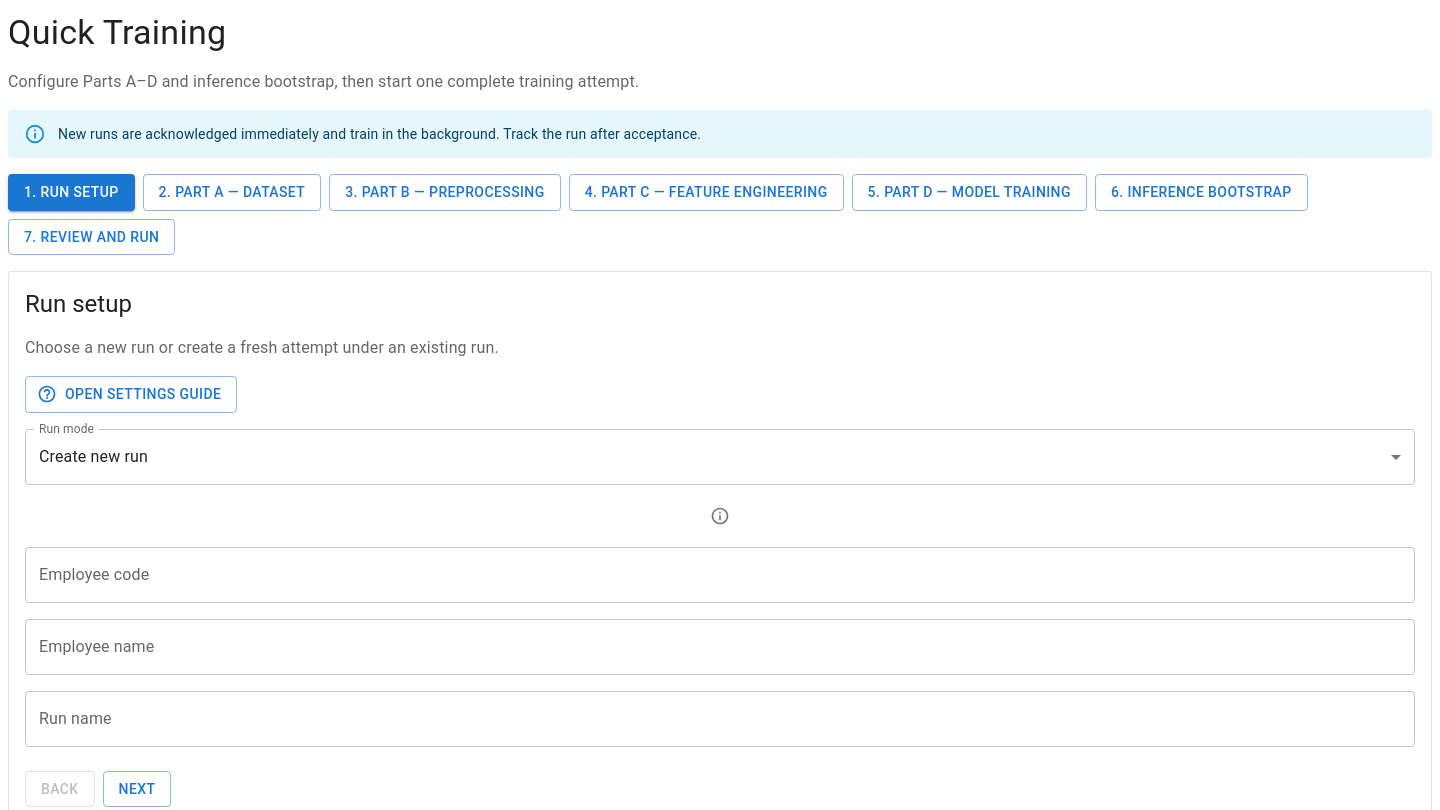
Quick Training workspace › preserves edits across steps and shows a readable review
The image size is (1440, 810).
Click the button "2. Part A — Dataset" at (232,192), box [143,174,321,210]
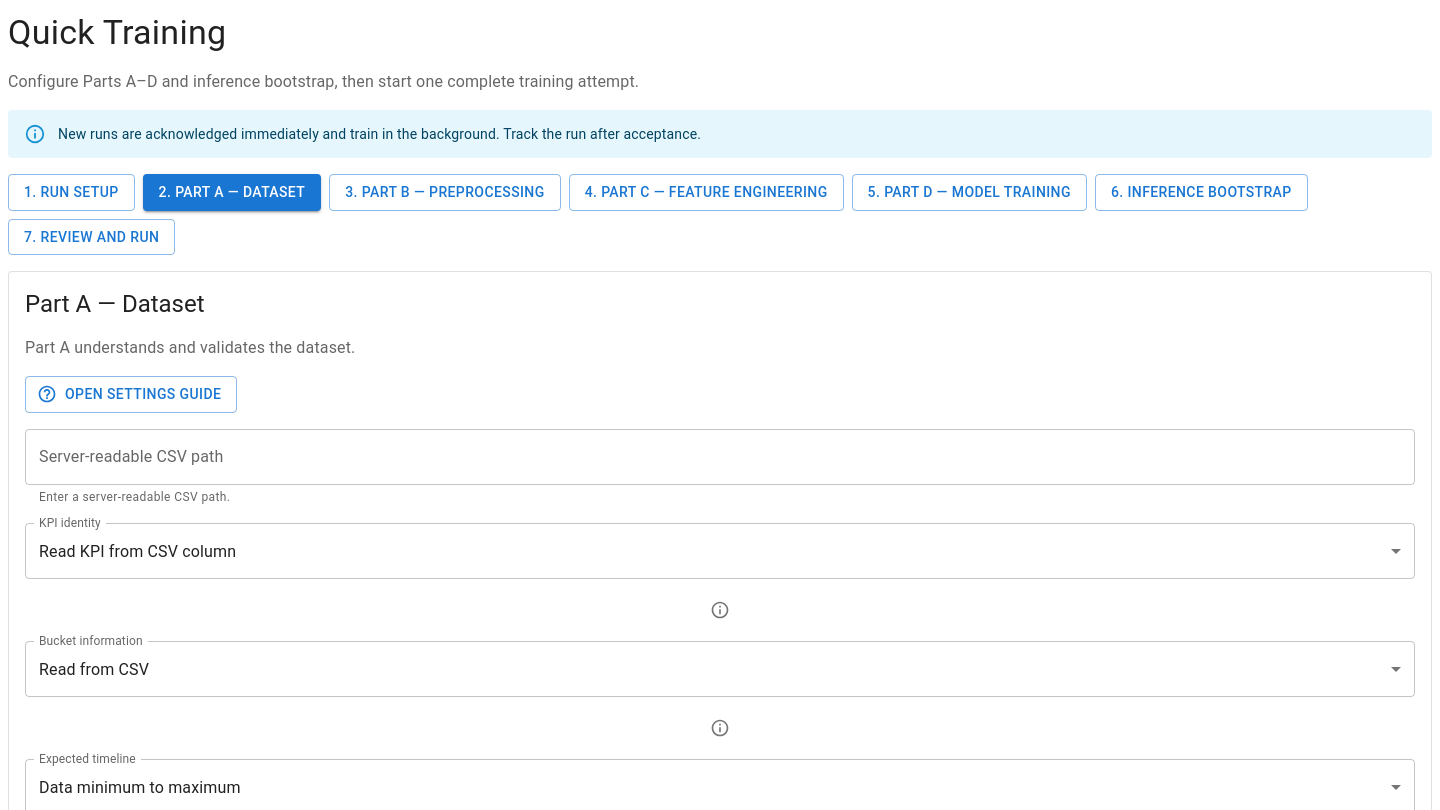
Type "server.csv" into the field labelled "Server-readable CSV path" at (720,456), box [25,428,1415,484]
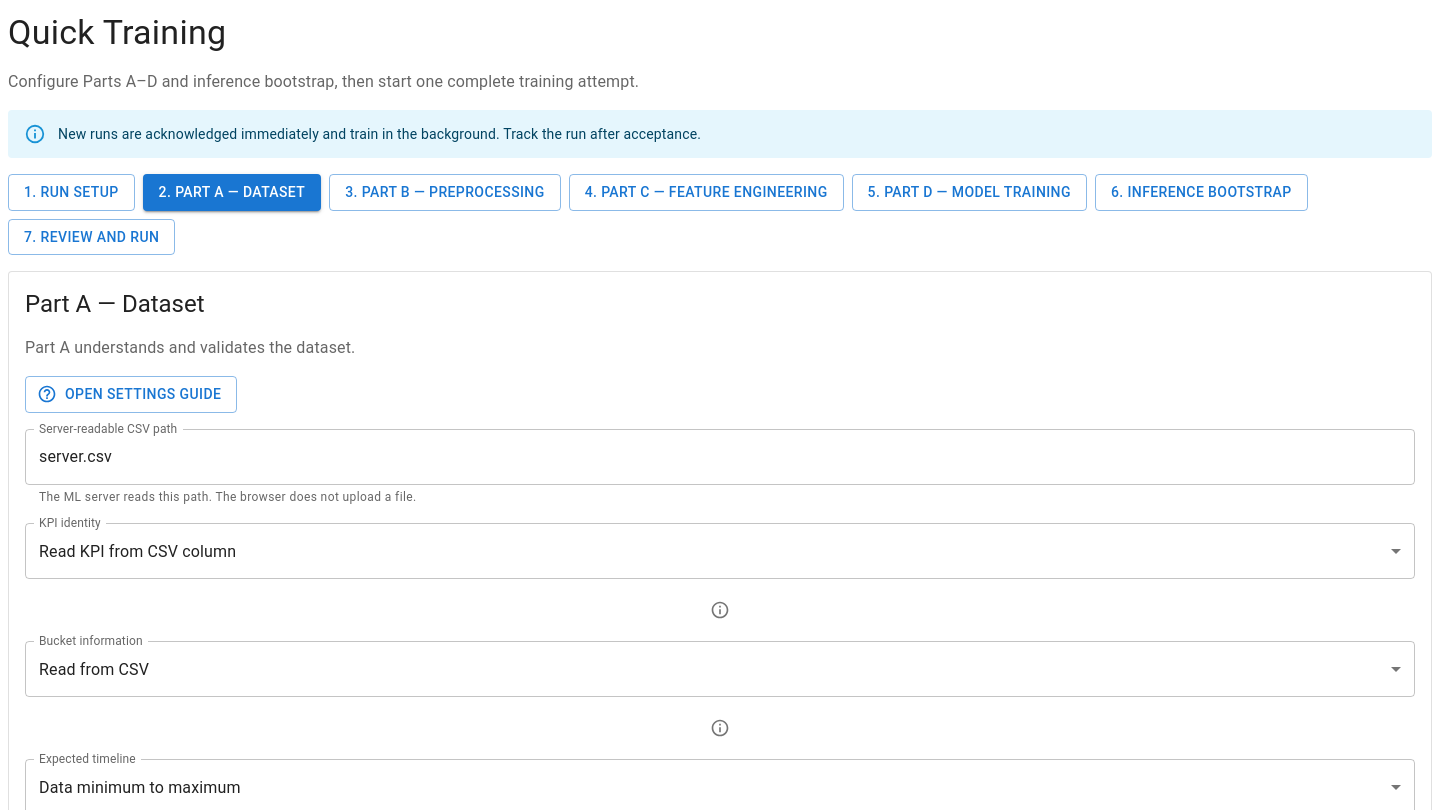
Click the button "7. Review and Run" at (92,237), box [8,218,175,255]
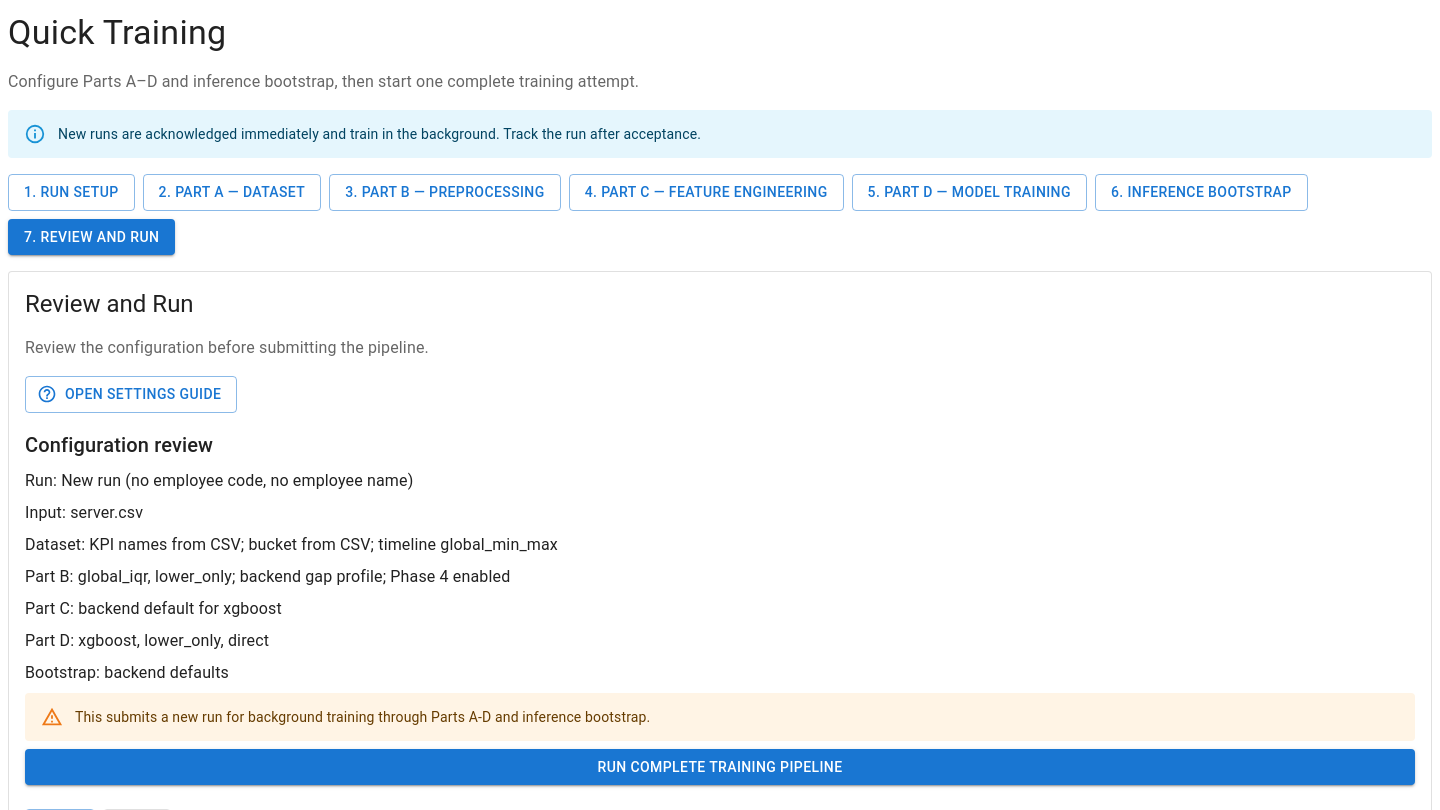
Expected: the text "Input: server.csv" is shown, [25,502,143,522]
Click the button "2. Part A — Dataset" at (232,192), box [143,174,321,210]
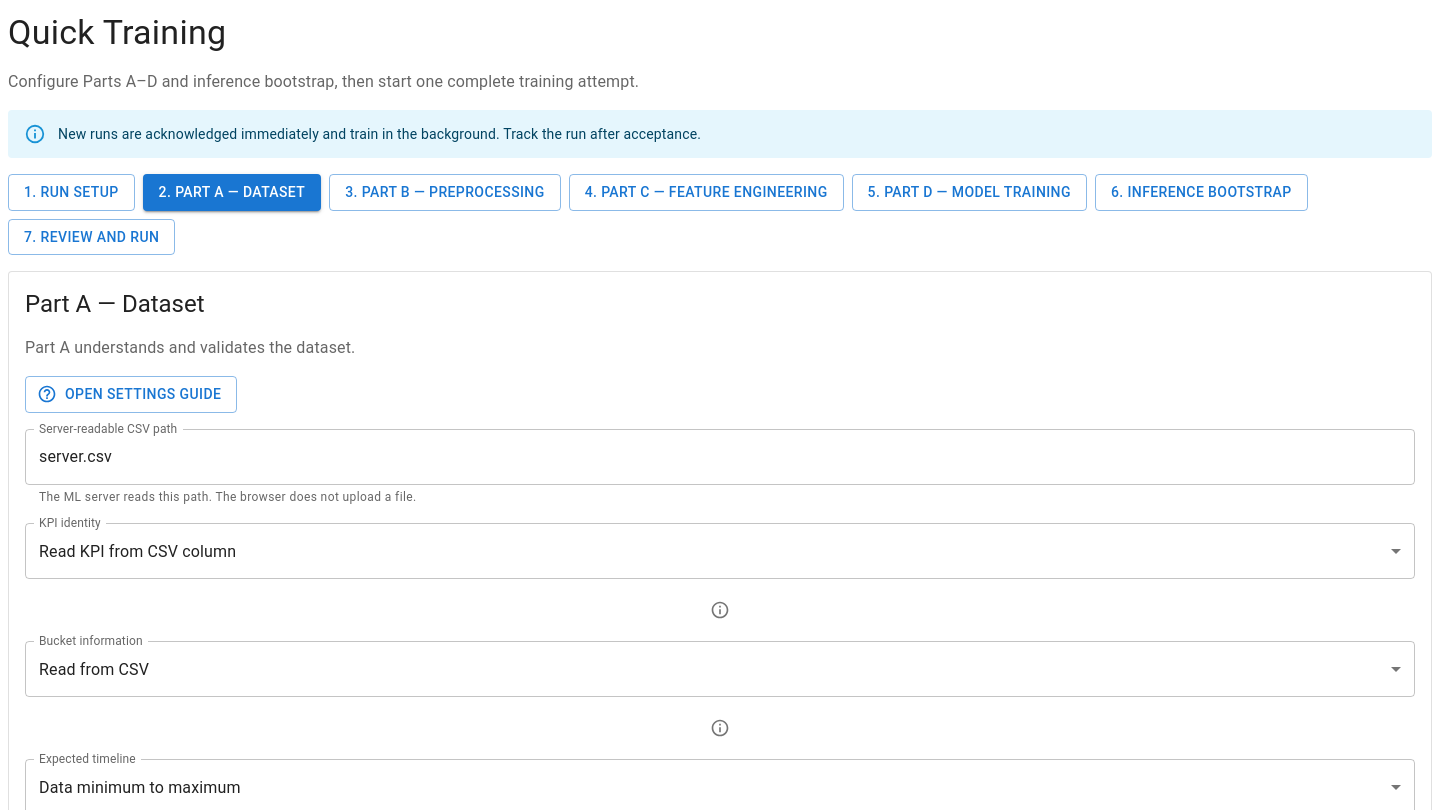
Expected: the field labelled "Server-readable CSV path" holds "server.csv", [25,428,1415,484]
